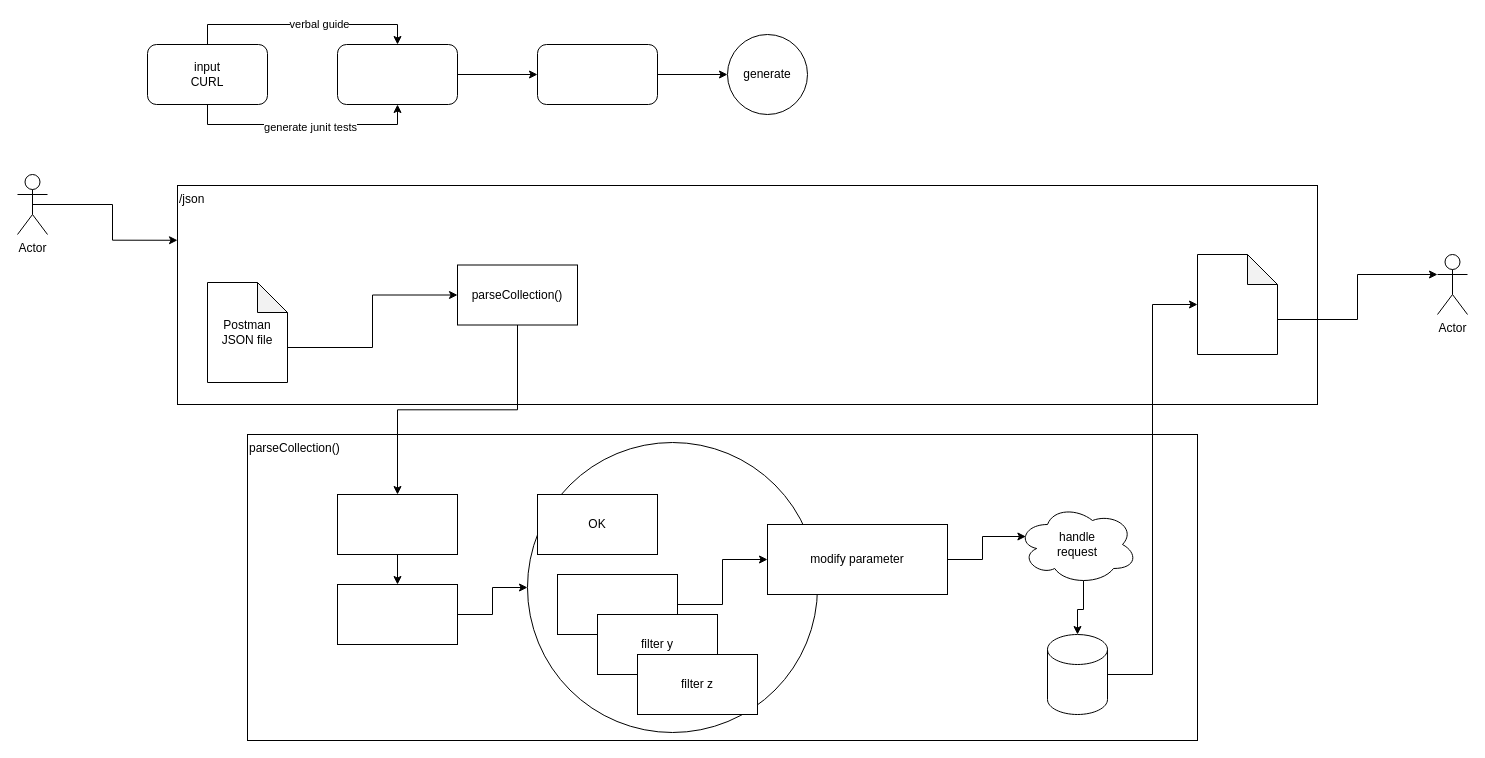
Some shapes in this 1485 by 758 pixel diagram are drawn without their labels. Here are the shapes that lost their labels. From the top down, the centre of each, then its label:
At point 397,74: "parse CURL to extract all params".
At point 597,74: "select among all possible solutions".
At point 1237,304: "popilated JSON".
At point 397,524: "httpMethod bodyMode bodyOptions dataType".
At point 397,614: "generate T/F blueprint (scneario table)".
At point 617,604: "filter x".
At point 1077,674: "list of response".
